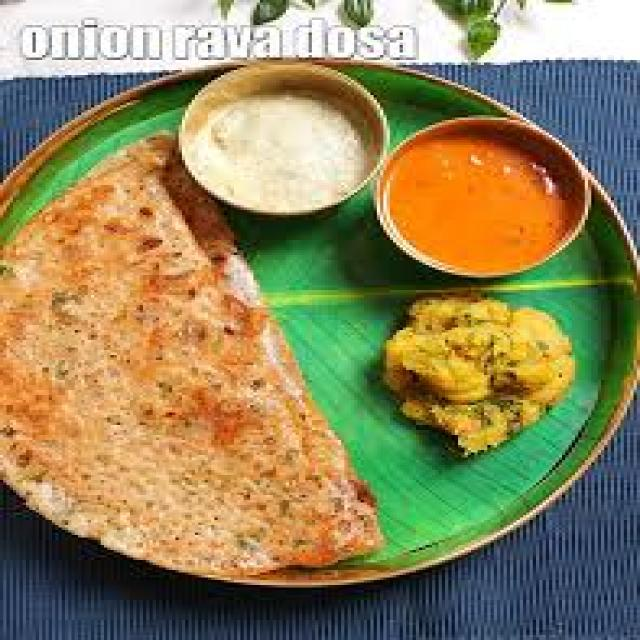DOSA: (0, 132, 388, 578)
